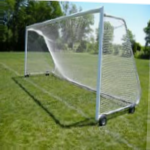goals: (22, 4, 143, 118)
